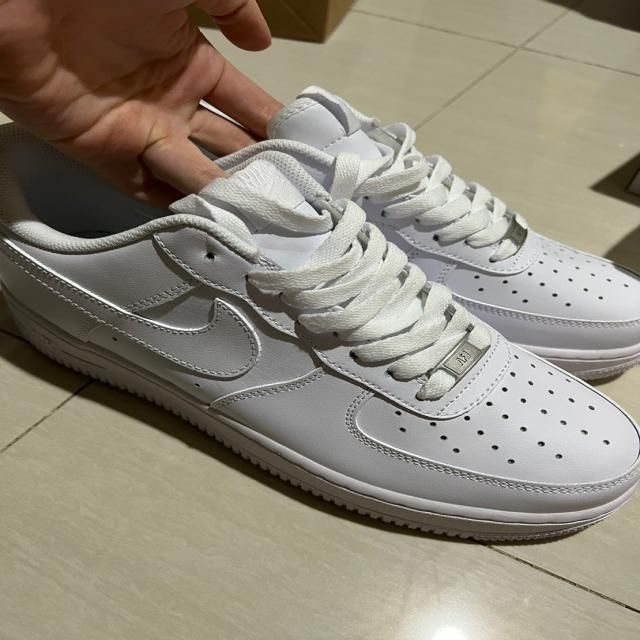nike original air force: (0, 120, 640, 547), (199, 81, 640, 383)
